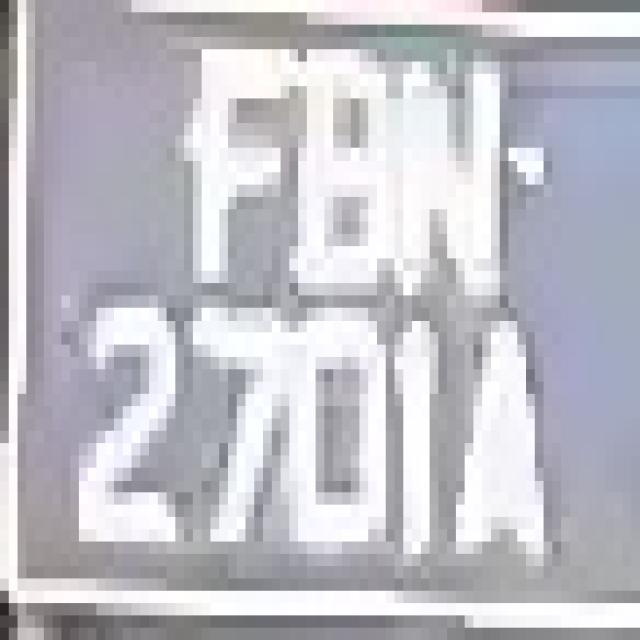0: (254, 308, 386, 566)
1: (395, 283, 447, 603)
2: (61, 222, 184, 616)
7: (158, 295, 272, 603)
A: (438, 308, 596, 615)
B: (272, 37, 394, 345)
F: (158, 0, 289, 320)
N: (377, 0, 508, 345)
